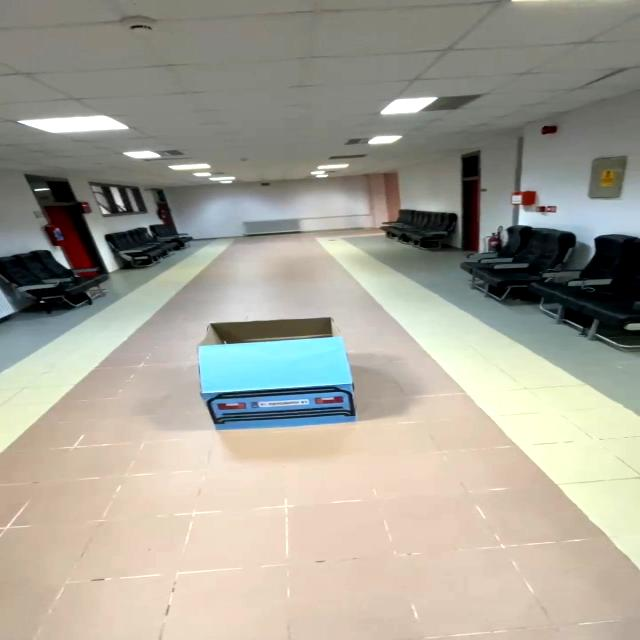blue_car: (174, 312, 383, 443)
